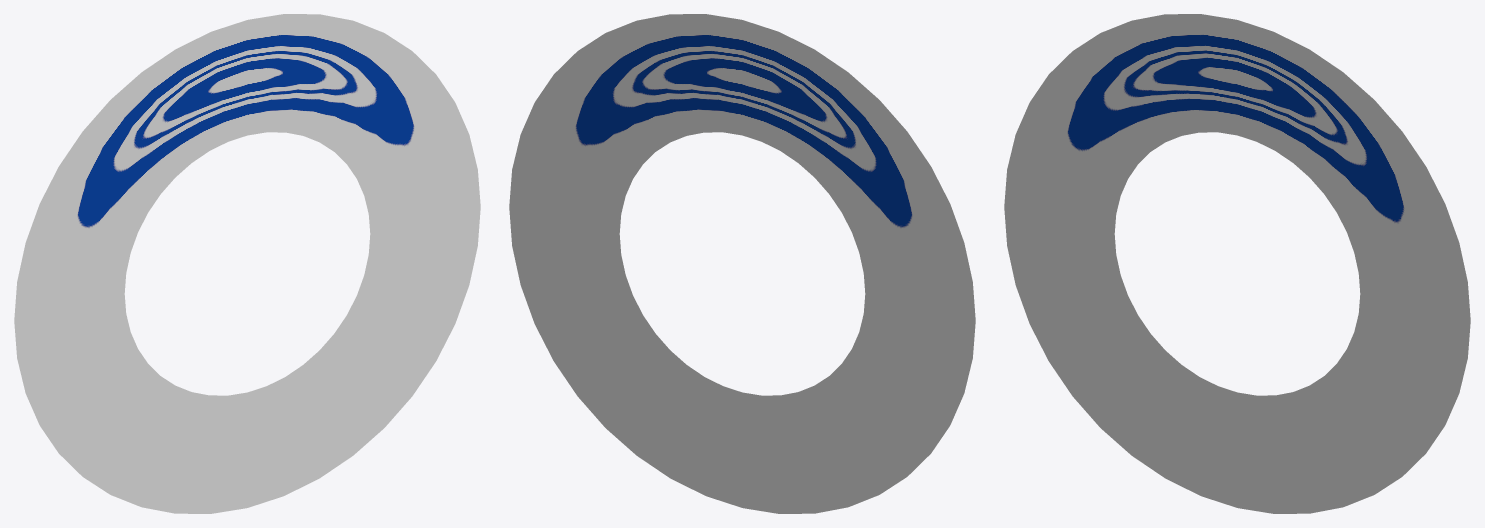
File: bigwave.fbx
The picture shows the model from 3 angles, left to right: view 1: azimuth 30°, elevation 25°; view 2: azimuth 150°, elevation 25°; view 3: azimuth 330°, elevation 25°; orthographic projection.
Visible parts, largest first — view 1: wave; view 2: wave; view 3: wave.
Boxes of the visible parts, box(x1,y1,x2,y2) form: wave: box(14, 14, 480, 513); wave: box(509, 14, 975, 513); wave: box(1004, 14, 1470, 513).
Bounding box in the file's own units: 3.8 × 3.8 × 6.19e-07.
